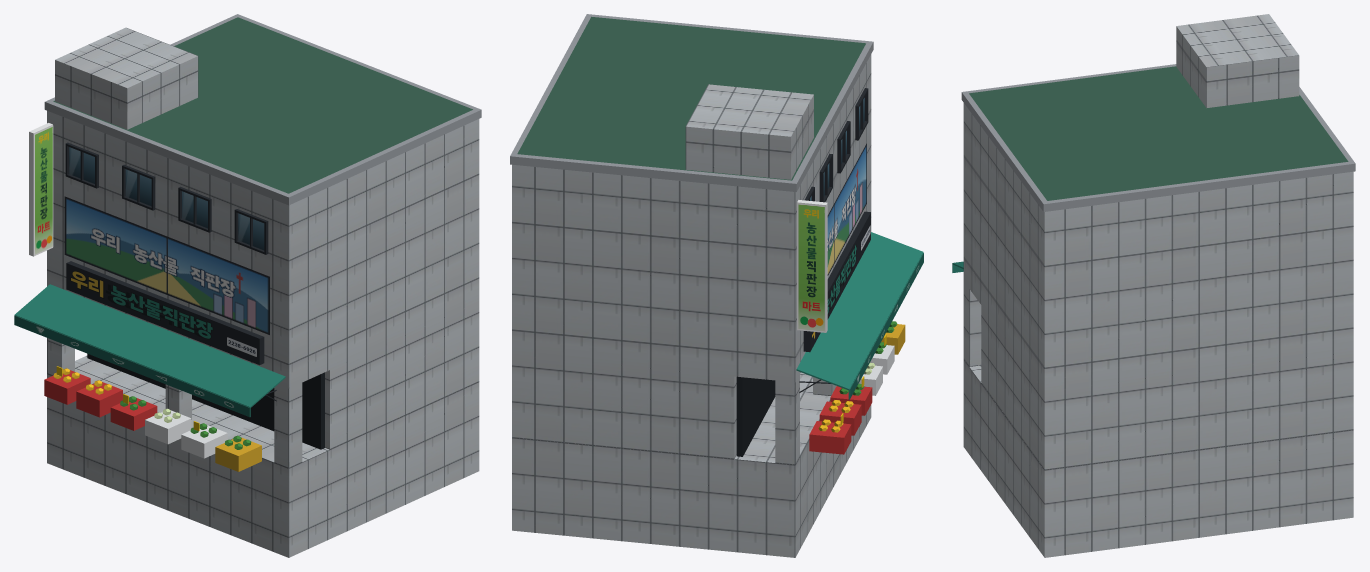
File: place_우리농산물직판장1.glb
The picture shows the model from 3 angles, left to right: view 1: azimuth 30°, elevation 25°; view 2: azimuth 150°, elevation 25°; view 3: azimuth 270°, elevation 25°; orthographic projection. The views are drawn at different scales.
Visible parts, largest first — view 1: Merged_B1_ACP, Merged_B1_Basement_ACP, Merged_B1_Roof, B1_Woori_2F_IllustratedBanner, Merged_Awning_Teal, Merged_B1_Parapet, Merged_B1_SignBack, Merged_B1_DarkInterior, Merged_Crate_Red, Merged_Win_ReflectGlass, Merged_Win_DarkFrame, B1_Woori_MainFasciaSign (+6 smaller); view 2: Merged_B1_ACP, Merged_B1_Basement_ACP, Merged_B1_Roof, Merged_Awning_Teal, Merged_B1_Parapet, B1_VertSign_N, B1_Woori_2F_IllustratedBanner, Merged_Crate_Red, Merged_B1_DarkInterior, Merged_Win_DarkFrame, Merged_B1_SignBack, Merged_Crate_Styro (+3 smaller); view 3: Merged_B1_ACP, Merged_B1_Basement_ACP, Merged_B1_Roof, Merged_B1_Parapet.
Boxes of the visible parts, x1,y1,x2,y2 form: Merged_B1_ACP: (47,27,479,468); Merged_B1_Basement_ACP: (47,355,479,557); Merged_B1_Roof: (53,17,472,193); B1_Woori_2F_IllustratedBanner: (64,196,269,334); Merged_Awning_Teal: (14,284,285,417); Merged_B1_Parapet: (44,14,481,205); Merged_B1_SignBack: (66,261,264,365); Merged_B1_DarkInterior: (87,353,324,449); Merged_Crate_Red: (44,370,157,430); Merged_Win_ReflectGlass: (69,147,264,250); Merged_Win_DarkFrame: (65,142,268,254); B1_Woori_MainFasciaSign: (70,271,256,356); Merged_B1_ACP: (512,54,871,464); Merged_B1_Basement_ACP: (512,372,871,557); Merged_B1_Roof: (517,16,865,180); Merged_Awning_Teal: (796,232,923,399); Merged_B1_Parapet: (510,14,873,191); B1_VertSign_N: (797,203,825,332); B1_Woori_2F_IllustratedBanner: (827,143,866,275); Merged_Crate_Red: (809,386,872,454); Merged_B1_DarkInterior: (736,377,775,456); Merged_Win_DarkFrame: (804,88,868,202); Merged_B1_SignBack: (803,211,870,352); Merged_Crate_Styro: (858,345,894,395); Merged_B1_ACP: (963,14,1353,469); Merged_B1_Basement_ACP: (963,359,1353,557); Merged_B1_Roof: (969,66,1348,200); Merged_B1_Parapet: (961,64,1355,211).
Size of the model in its own units: 15.15 by 16.2 by 14.97.
20 materials, 7 textured.
